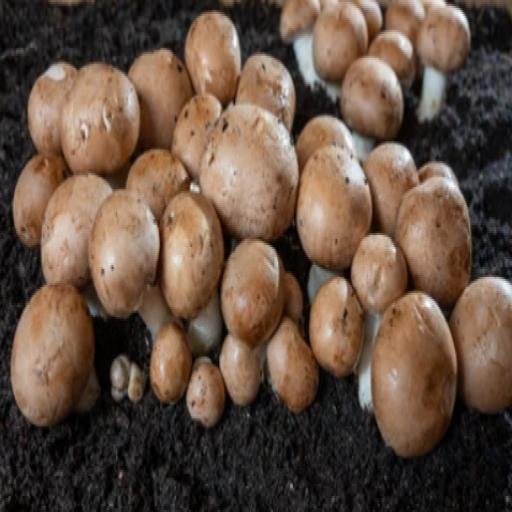Button Mushroom: (15, 38, 510, 444), (277, 0, 477, 147), (16, 281, 116, 452)
